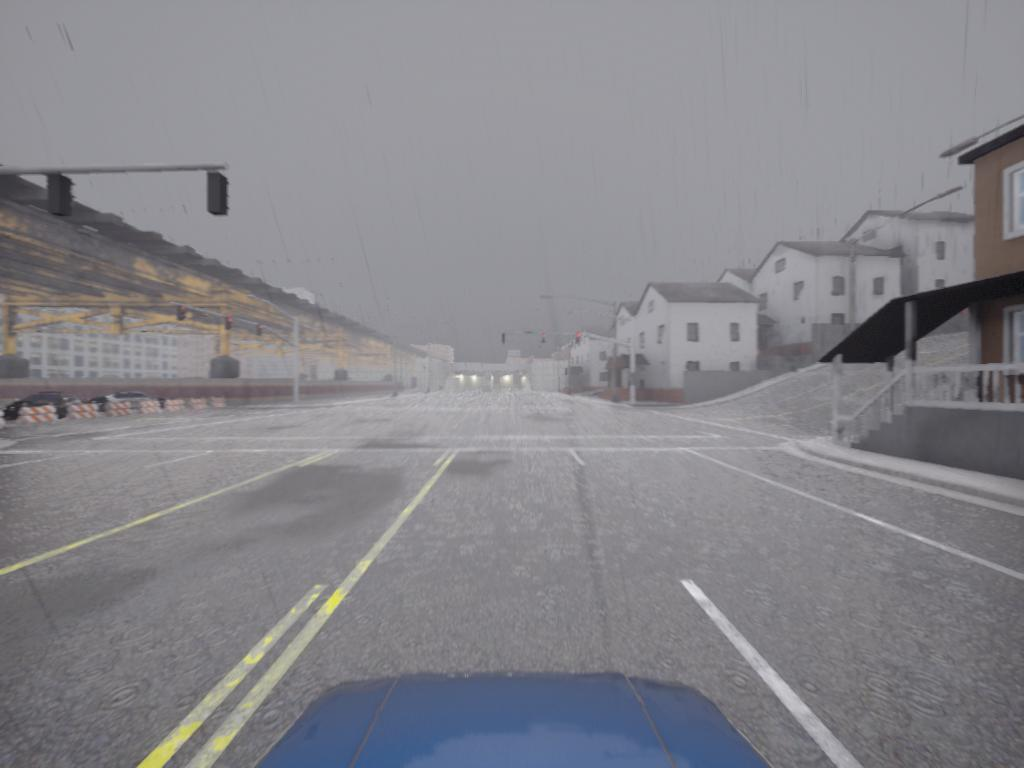traffic_light: (46, 171, 74, 222), (207, 171, 232, 217), (575, 333, 582, 345), (502, 333, 508, 346), (542, 333, 548, 345)
